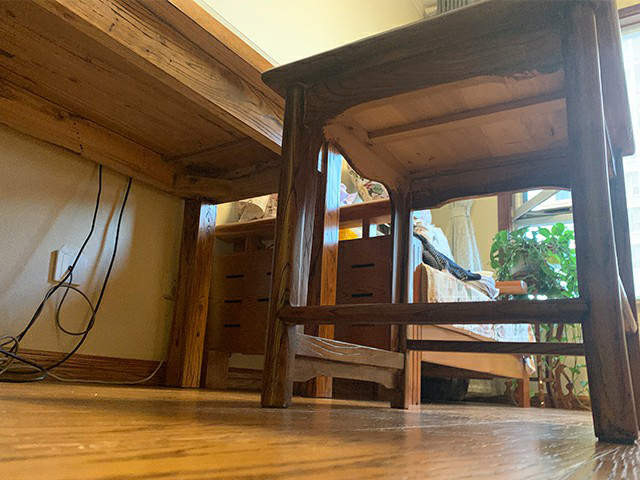sofa: (163, 198, 533, 411)
stool: (260, 1, 640, 441)
table: (1, 1, 338, 397)
wire: (1, 162, 162, 386)
